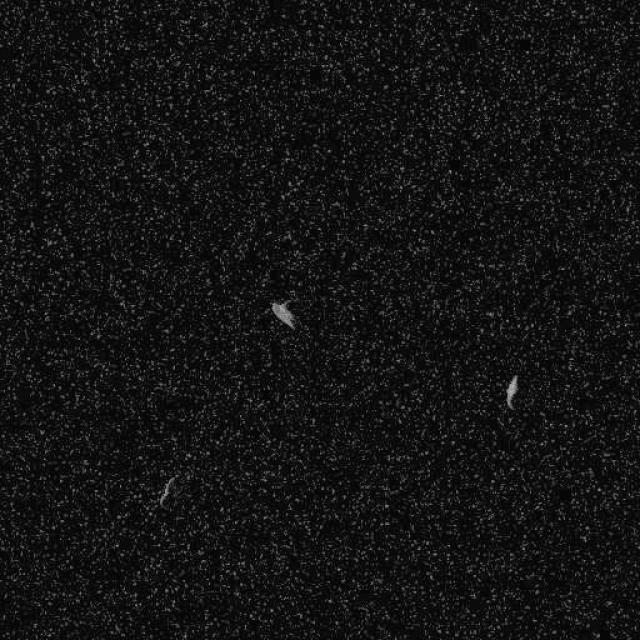D2: (269, 299, 296, 330), (158, 475, 176, 509), (504, 374, 518, 408)
